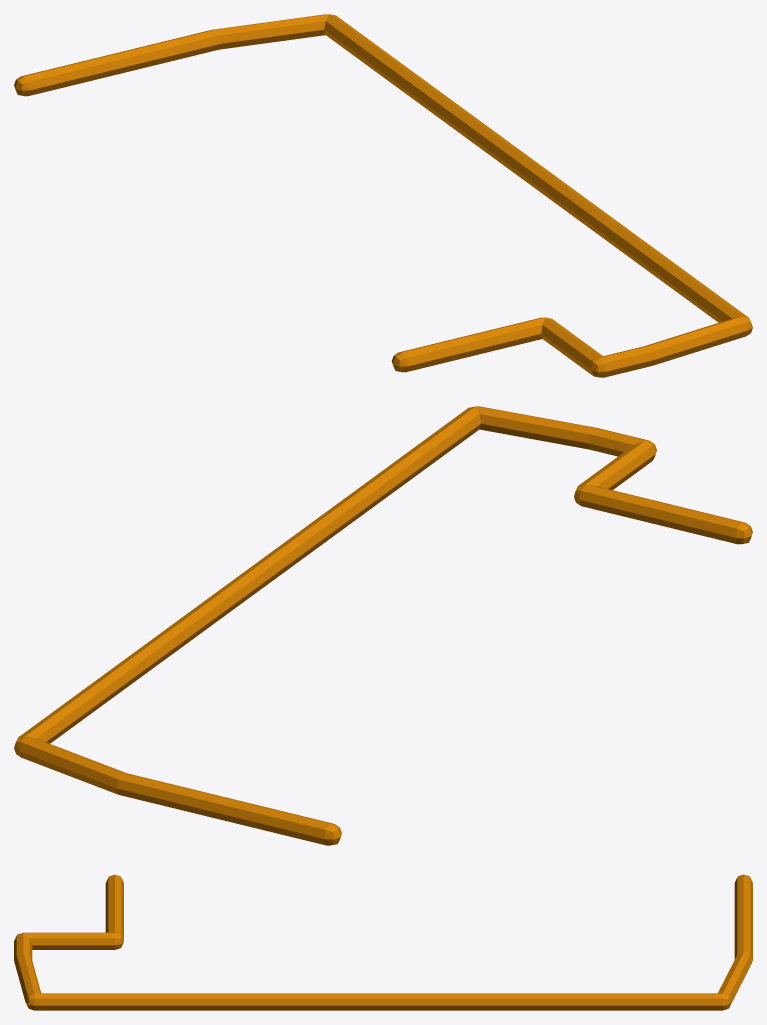
3 views of the same model, one above another, from view 1: azimuth 30°, elevation 25°; view 2: azimuth 150°, elevation 25°; view 3: azimuth 270°, elevation 25° (orthographic). The views are drawn at different scales.
Size of the model in its own units: 326 by 20 by 805.
